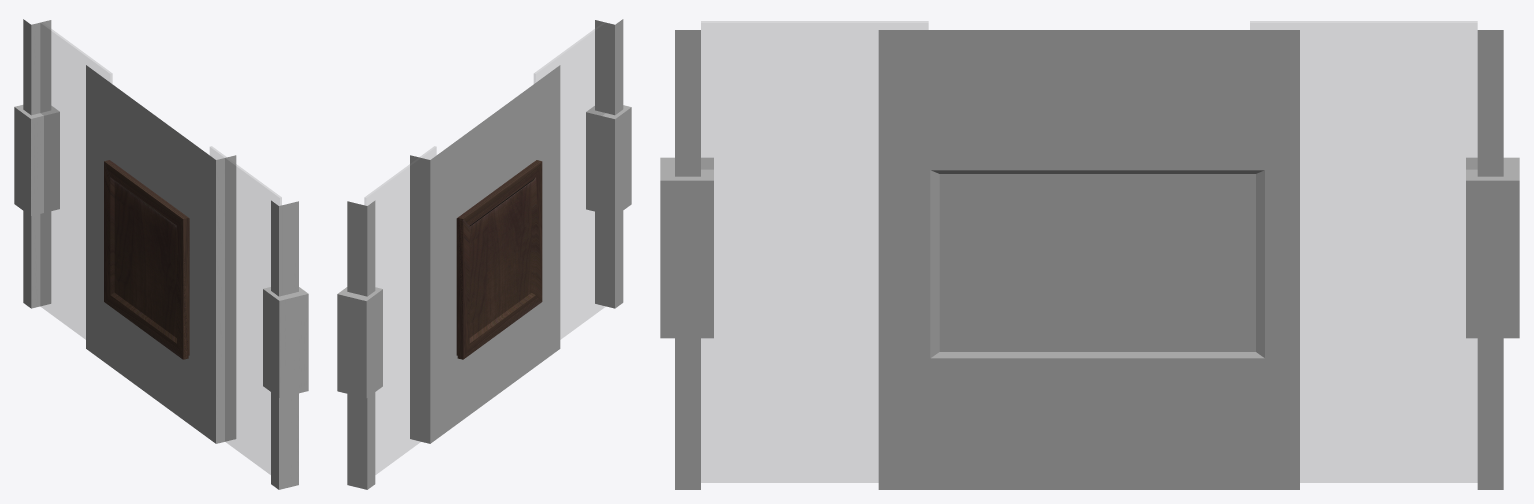
File: room.glb
The picture shows the model from 3 angles, left to right: view 1: azimuth 30°, elevation 25°; view 2: azimuth 150°, elevation 25°; view 3: azimuth 270°, elevation 25°; orthographic projection. The views are drawn at different scales.
Parts seen in each view (by area): view 1: YFCG_2680, YFCG_2682, YFCG_2697, YFCG_2683, YFCG_2707, YFCG_2706; view 2: YFCG_2680, YFCG_2683, YFCG_2697, YFCG_2682, YFCG_2706, YFCG_2707; view 3: YFCG_2680, YFCG_2682, YFCG_2683, YFCG_2706, YFCG_2707, YFCG_2752.
Part boxes in pixels (x1,y1,x2,y2): YFCG_2680: (23, 19, 298, 489); YFCG_2682: (40, 22, 112, 339); YFCG_2697: (104, 160, 189, 359); YFCG_2683: (210, 146, 281, 474); YFCG_2707: (263, 287, 308, 397); YFCG_2706: (14, 105, 59, 215); YFCG_2680: (347, 19, 623, 489); YFCG_2683: (534, 22, 605, 338); YFCG_2697: (456, 160, 542, 359); YFCG_2682: (364, 146, 436, 474); YFCG_2706: (337, 287, 382, 398); YFCG_2707: (586, 105, 631, 216); YFCG_2680: (675, 30, 1503, 489); YFCG_2682: (1250, 21, 1477, 482); YFCG_2683: (701, 21, 928, 482); YFCG_2706: (1466, 157, 1519, 338); YFCG_2707: (660, 157, 713, 338); YFCG_2752: (930, 170, 1264, 358).
Size of the model in its own units: 0.4877 by 3.76 by 6.37.
4 materials, 1 textured.
